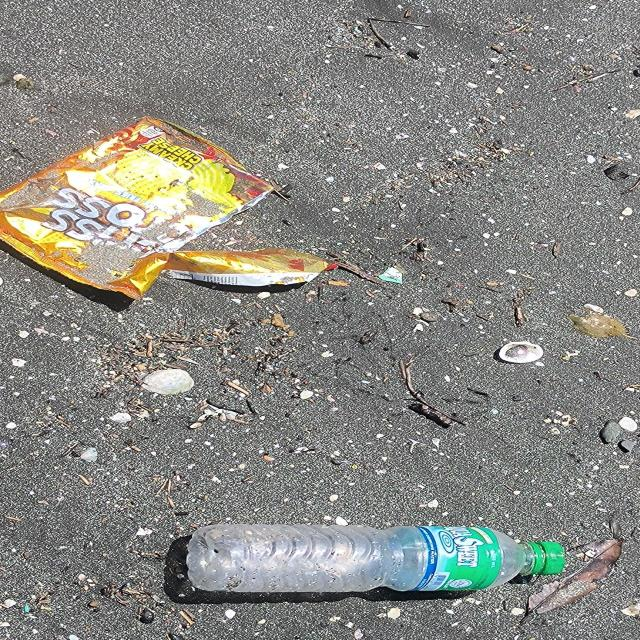plastic_waste: (1, 116, 274, 306), (187, 525, 569, 594)
